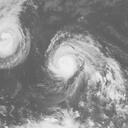cyclone: (43, 29, 125, 97)
